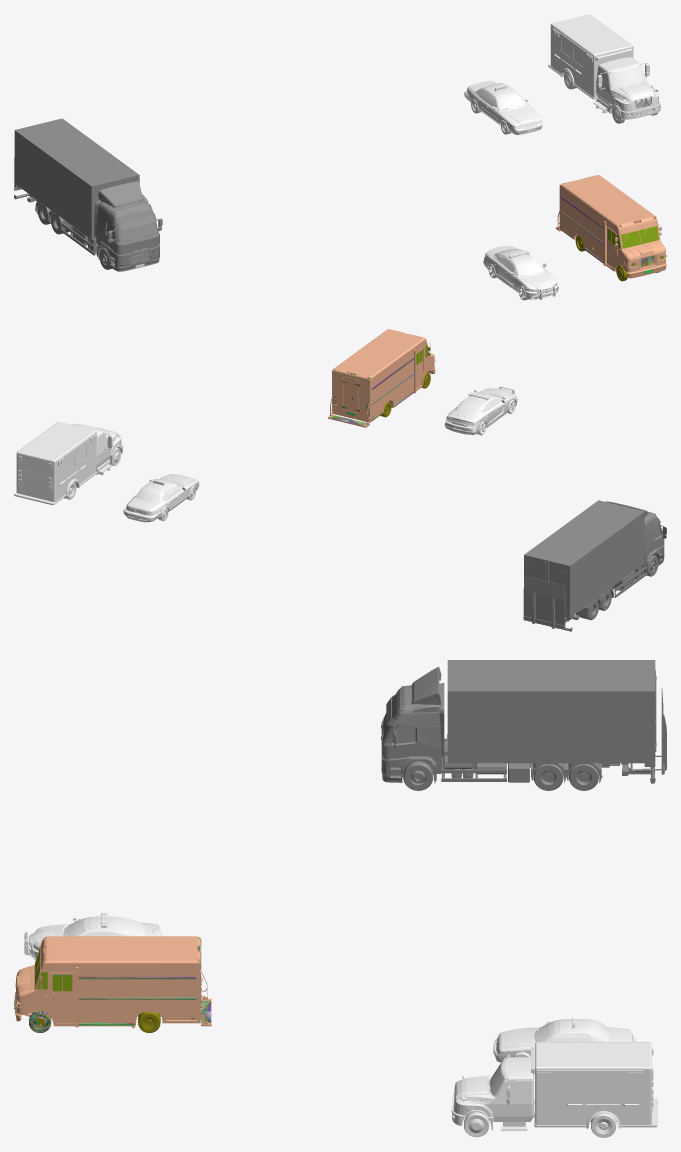
The model's file is Cars_01_Mesh.fbx.
The picture shows the model from 3 angles, top to bottom: view 1: azimuth 30°, elevation 25°; view 2: azimuth 150°, elevation 25°; view 3: azimuth 270°, elevation 25°; orthographic projection. The views are drawn at different scales.
Parts seen in each view (by area): view 1: BigTruck_06_Closed_BigTruck_06_Cargo_0, DeliveryTruck_02_DeliveryTruck_02_Body_0, Ambulance_02_Ambulance_02_Body_0, BigTruck_06_Closed_BigTruck_06_Body_0, PoliceCar_02_PoliceCar_02_Body_0, TaxiCar_02_TaxiCar_02_Body_0, Ambulance_02_Ambulance_02_Windows_0, DeliveryTruck_02_DeliveryTruck_02_Windows_0, BigTruck_06_Closed_BigTruck_06_Windows_0, PoliceCar_02_PoliceCar_02_Windows_0, TaxiCar_02_TaxiCar_02_Windows_0, BigTruck_06_Closed_BigTruck_06_Wheels_0; view 2: BigTruck_06_Closed_BigTruck_06_Cargo_0, DeliveryTruck_02_DeliveryTruck_02_Body_0, Ambulance_02_Ambulance_02_Body_0, TaxiCar_02_TaxiCar_02_Body_0, PoliceCar_02_PoliceCar_02_Body_0, BigTruck_06_Closed_BigTruck_06_Body_0, PoliceCar_02_PoliceCar_02_Windows_0, BigTruck_06_Closed_BigTruck_06_Wheels_0, TaxiCar_02_TaxiCar_02_Windows_0, Ambulance_02_Ambulance_02_Windows_0; view 3: BigTruck_06_Closed_BigTruck_06_Cargo_0, DeliveryTruck_02_DeliveryTruck_02_Body_0, Ambulance_02_Ambulance_02_Body_0, BigTruck_06_Closed_BigTruck_06_Body_0, TaxiCar_02_TaxiCar_02_Body_0, BigTruck_06_Closed_BigTruck_06_Wheels_0, PoliceCar_02_PoliceCar_02_Body_0, Ambulance_02_Ambulance_02_Wheels_0, TaxiCar_02_TaxiCar_02_Windows_0, DeliveryTruck_02_DeliveryTruck_02_Windows_0, DeliveryTruck_02_DeliveryTruck_02_Wheels_0, PoliceCar_02_PoliceCar_02_Windows_0 (+1 smaller).
Boxes of the visible parts, x1,y1,x2,y2 form: BigTruck_06_Closed_BigTruck_06_Cargo_0: (14,118,139,239); DeliveryTruck_02_DeliveryTruck_02_Body_0: (555,175,666,278); Ambulance_02_Ambulance_02_Body_0: (548,14,660,119); BigTruck_06_Closed_BigTruck_06_Body_0: (16,181,162,271); PoliceCar_02_PoliceCar_02_Body_0: (483,244,558,299); TaxiCar_02_TaxiCar_02_Body_0: (464,80,542,134); Ambulance_02_Ambulance_02_Windows_0: (561,41,658,109); DeliveryTruck_02_DeliveryTruck_02_Windows_0: (608,226,663,266); BigTruck_06_Closed_BigTruck_06_Windows_0: (106,221,159,266); PoliceCar_02_PoliceCar_02_Windows_0: (495,249,557,291); TaxiCar_02_TaxiCar_02_Windows_0: (467,85,542,129); BigTruck_06_Closed_BigTruck_06_Wheels_0: (37,203,112,269); BigTruck_06_Closed_BigTruck_06_Cargo_0: (523,500,644,631); DeliveryTruck_02_DeliveryTruck_02_Body_0: (328,329,435,427); Ambulance_02_Ambulance_02_Body_0: (14,421,122,505); TaxiCar_02_TaxiCar_02_Body_0: (123,474,199,522); PoliceCar_02_PoliceCar_02_Body_0: (444,386,517,434); BigTruck_06_Closed_BigTruck_06_Body_0: (565,501,666,621); PoliceCar_02_PoliceCar_02_Windows_0: (447,393,501,425); BigTruck_06_Closed_BigTruck_06_Wheels_0: (580,555,658,620); TaxiCar_02_TaxiCar_02_Windows_0: (126,479,198,515); Ambulance_02_Ambulance_02_Windows_0: (26,435,121,474); BigTruck_06_Closed_BigTruck_06_Cargo_0: (447,660,666,783); DeliveryTruck_02_DeliveryTruck_02_Body_0: (14,936,211,1028); Ambulance_02_Ambulance_02_Body_0: (452,1042,657,1130); BigTruck_06_Closed_BigTruck_06_Body_0: (381,666,652,783); TaxiCar_02_TaxiCar_02_Body_0: (493,1017,636,1062); BigTruck_06_Closed_BigTruck_06_Wheels_0: (403,761,598,790); PoliceCar_02_PoliceCar_02_Body_0: (24,912,162,960); Ambulance_02_Ambulance_02_Wheels_0: (464,1112,616,1137); TaxiCar_02_TaxiCar_02_Windows_0: (497,1020,609,1055); DeliveryTruck_02_DeliveryTruck_02_Windows_0: (35,948,210,1022); DeliveryTruck_02_DeliveryTruck_02_Wheels_0: (29,1011,160,1032); PoliceCar_02_PoliceCar_02_Windows_0: (33,913,160,950).
Size of the model in its own units: 3416 by 421 by 2461.
